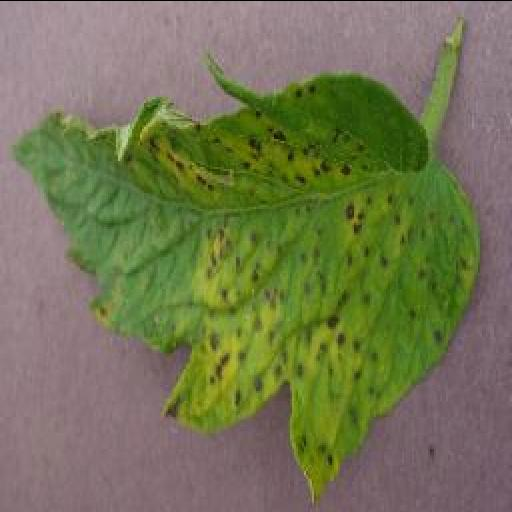disease_tomato: (11, 76, 481, 497)
